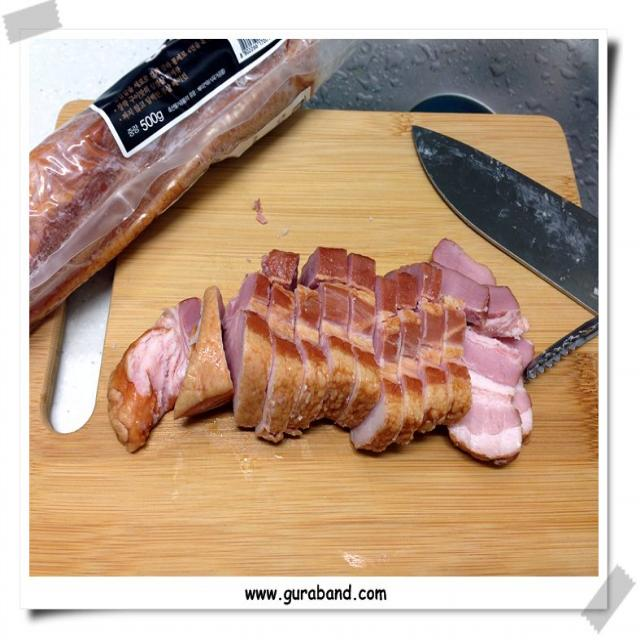bacon: (107, 240, 533, 462), (29, 38, 328, 322)
